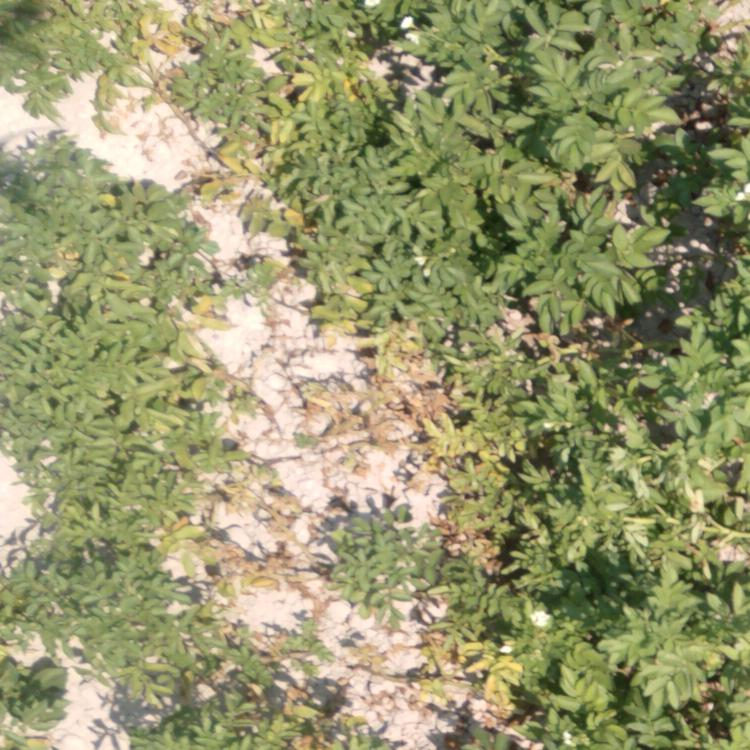healthy: (390, 141, 739, 311), (531, 319, 740, 532), (429, 1, 741, 132), (563, 542, 746, 747), (5, 317, 89, 723)
stressed: (98, 317, 281, 611), (3, 1, 414, 130), (376, 539, 556, 744), (328, 327, 507, 531), (208, 137, 383, 321), (1, 139, 182, 307), (146, 623, 357, 750)
